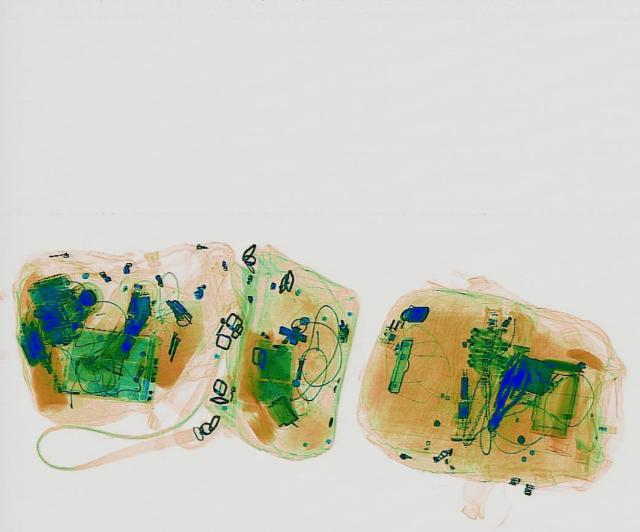Pliers: (475, 362, 535, 431)
